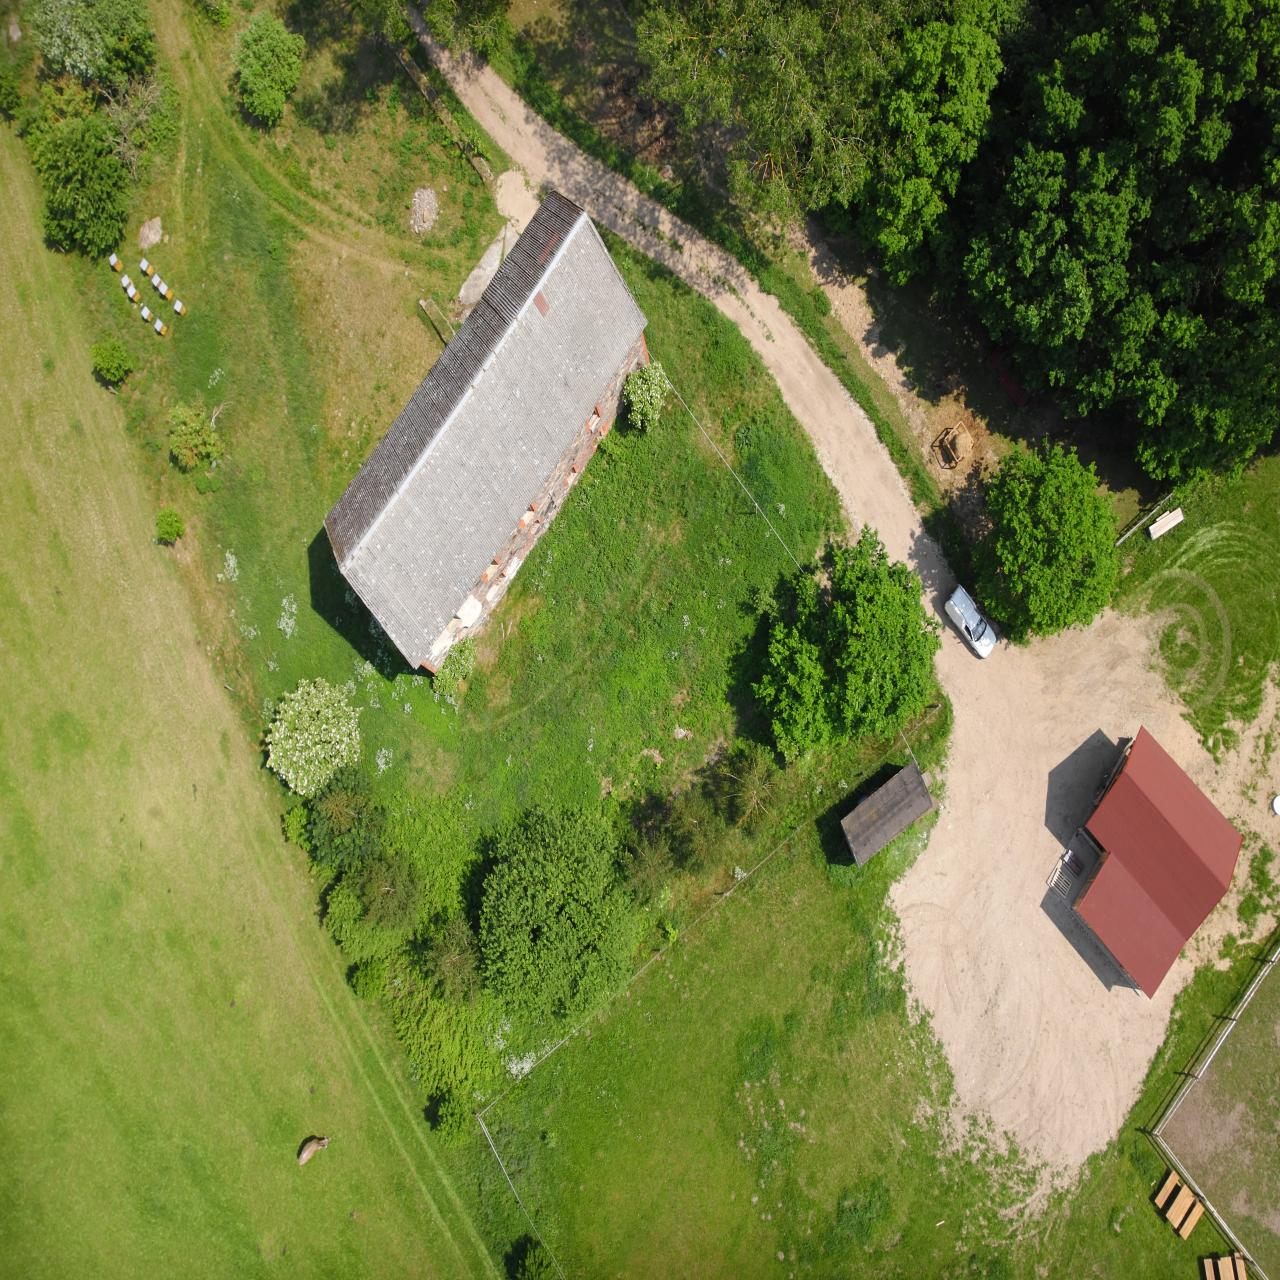cow: (948, 114, 981, 145)
